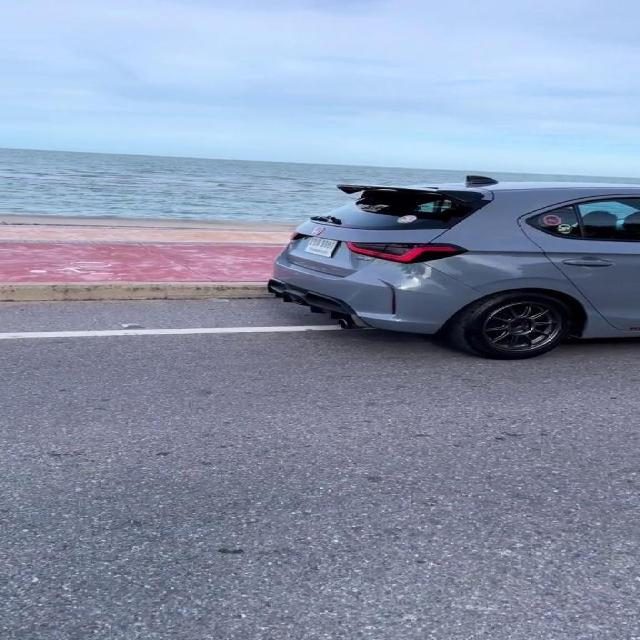Hatchback: (268, 175, 639, 359)
